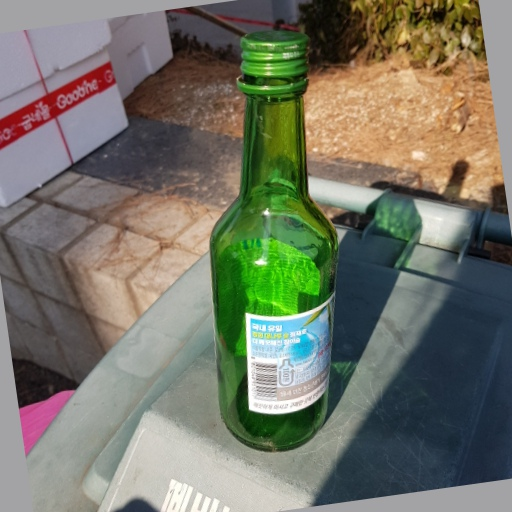Glass_0: (205, 28, 337, 450)
